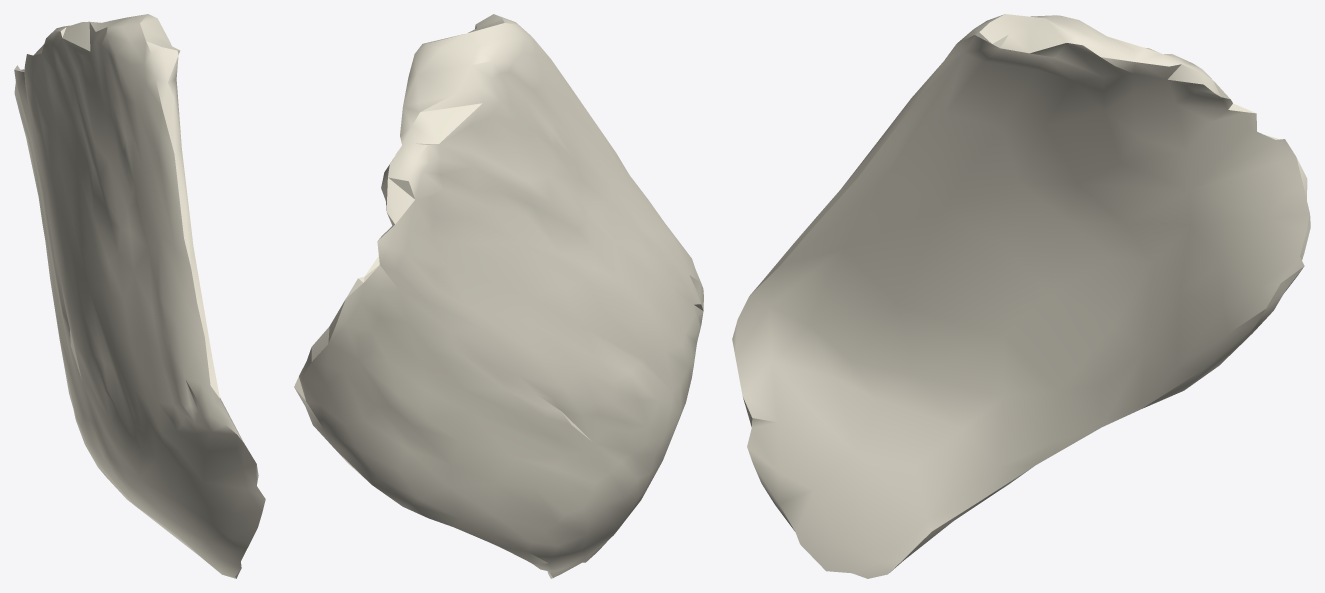
Rendered from fma321705-l_mm1494.glb.
3 views of the same model, side by side, from view 1: azimuth 30°, elevation 25°; view 2: azimuth 150°, elevation 25°; view 3: azimuth 270°, elevation 25° (orthographic). The views are drawn at different scales.
Parts seen in each view (by area): view 1: FMA321705-L_MM1494; view 2: FMA321705-L_MM1494; view 3: FMA321705-L_MM1494.
Part boxes in pixels (left/top/right/bottom): FMA321705-L_MM1494: left=14, top=14, right=265, bottom=578; FMA321705-L_MM1494: left=294, top=14, right=703, bottom=578; FMA321705-L_MM1494: left=732, top=14, right=1310, bottom=578.
Bounding box in the file's own units: 0.00222 × 0.00891 × 0.00837.
